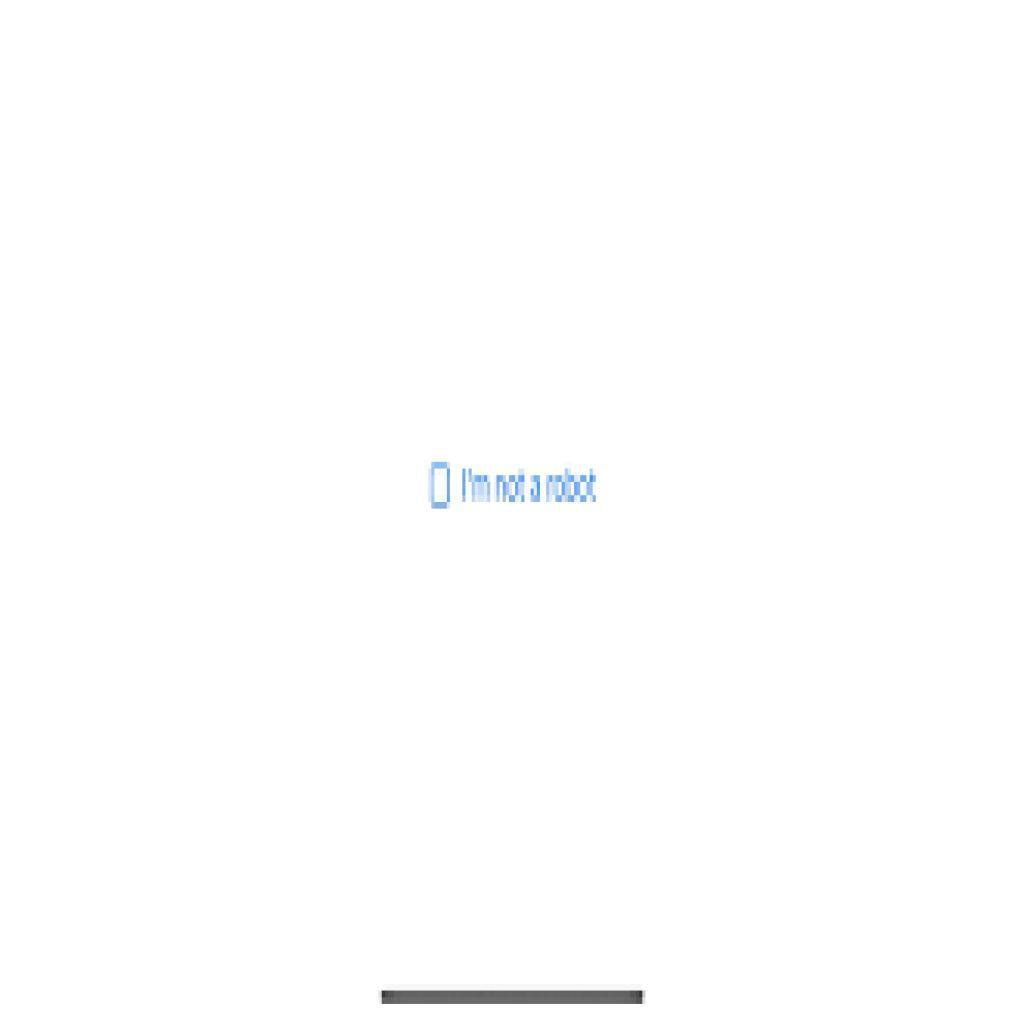checkbox: (429, 461, 453, 511)
label: (460, 465, 602, 509)
